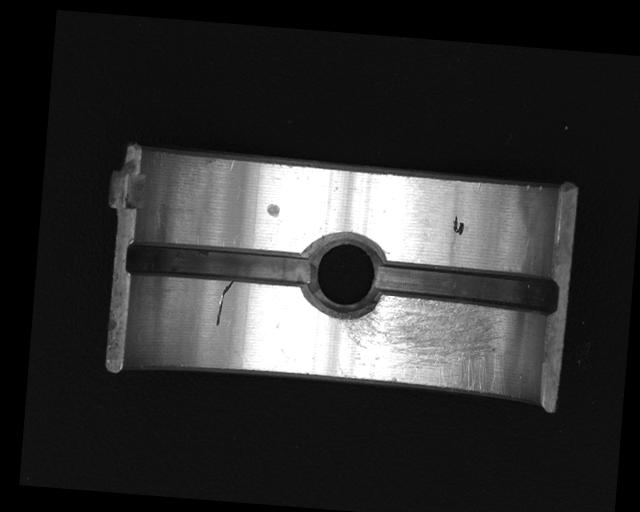blot: (451, 215, 465, 236)
bruise: (266, 202, 280, 218)
gap: (123, 237, 314, 290), (372, 260, 560, 313)
hole: (300, 229, 387, 323)
nick: (214, 277, 233, 327)
scratch: (335, 290, 510, 395)
